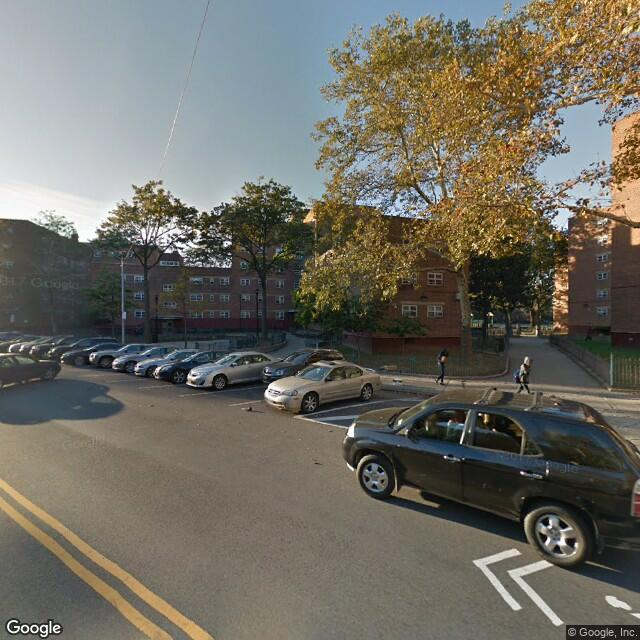litter: (241, 404, 252, 412), (310, 460, 322, 465), (146, 401, 153, 408)
